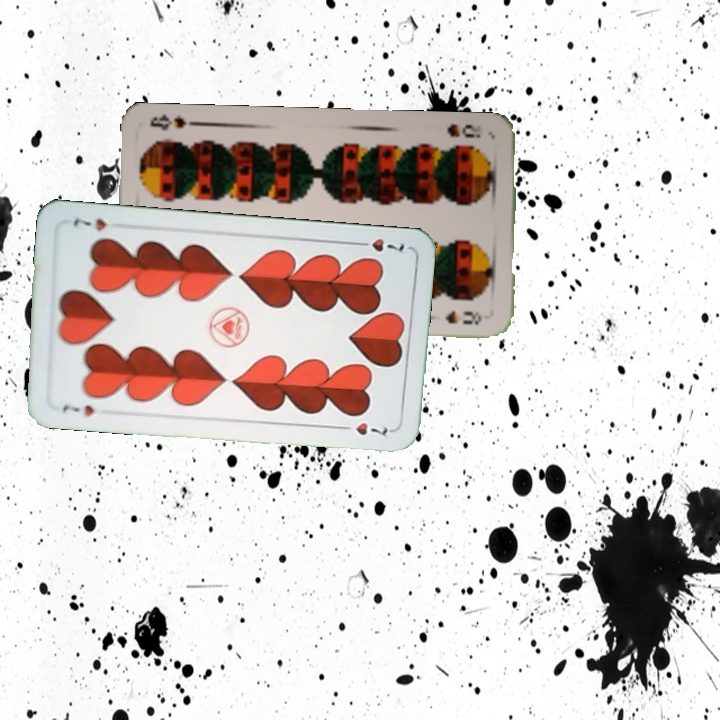H7: (350, 234, 407, 254), (58, 400, 97, 419)
S8: (443, 119, 483, 140)
